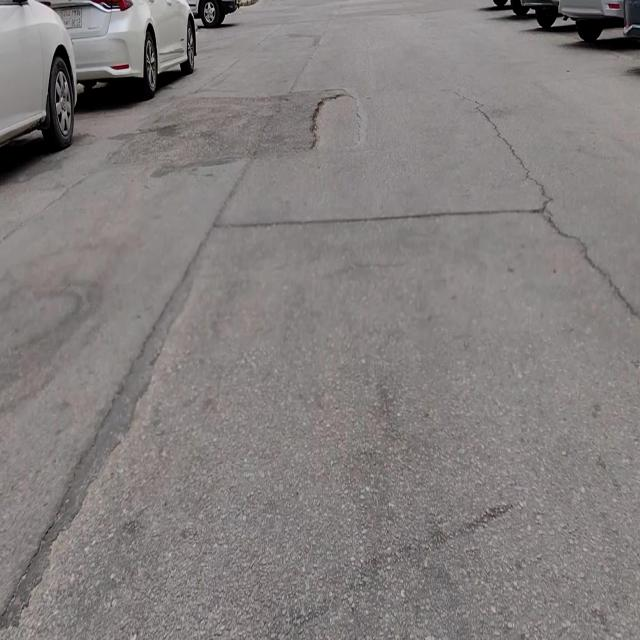Potholes: (310, 92, 362, 148)
